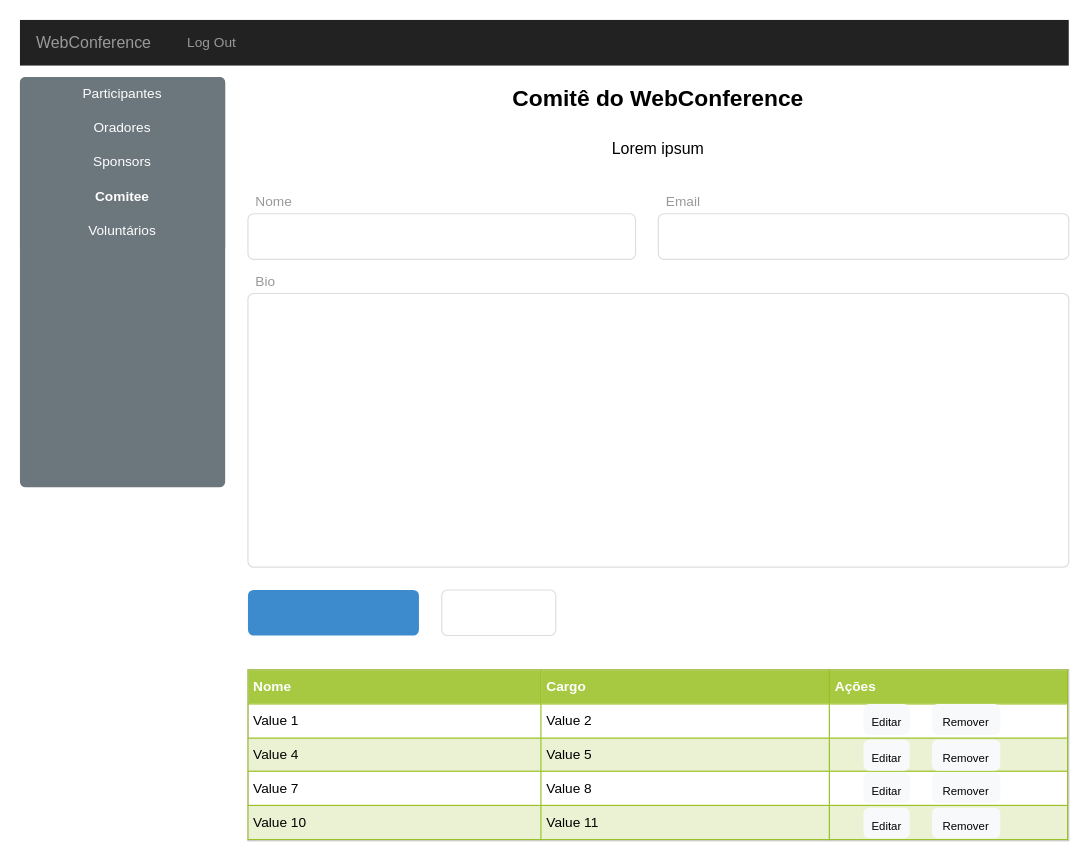
The diagram is 1089 pixels wide and 861 high, and some of its shapes have lost their labels. Each missing label, with the centre of its shape:
"Limpar" goes at point 498,612.
"Salvar" goes at point 332,612.
